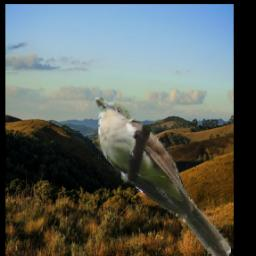Cuckoo: (95, 98, 231, 256)
